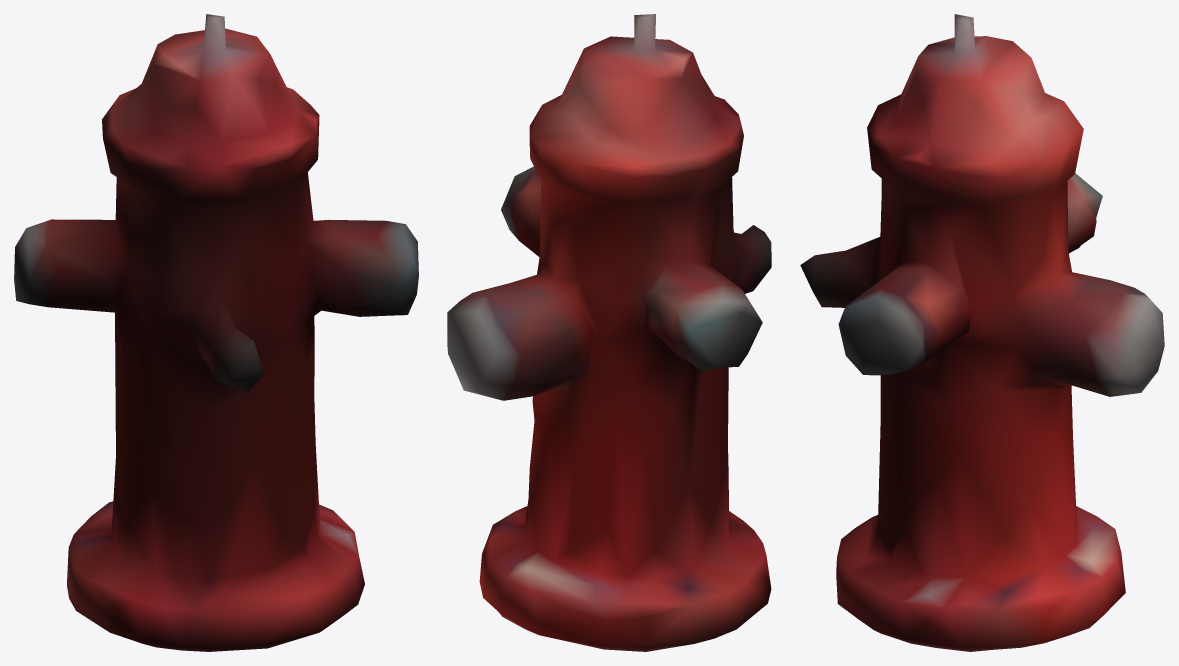
Rendered from gen_hydrant_lowpoly.mobile-mid.glb.
The picture shows the model from 3 angles, left to right: view 1: azimuth 30°, elevation 25°; view 2: azimuth 150°, elevation 25°; view 3: azimuth 270°, elevation 25°; orthographic projection. The views are drawn at different scales.
Visible parts, largest first — view 1: gen_hydrant_lowpoly; view 2: gen_hydrant_lowpoly; view 3: gen_hydrant_lowpoly.
Part boxes in pixels (x1,y1,x2,y2): gen_hydrant_lowpoly: [14, 14, 418, 651]; gen_hydrant_lowpoly: [447, 14, 771, 651]; gen_hydrant_lowpoly: [800, 14, 1164, 651].
Bounding box in the file's own units: 0.4514 × 0.7962 × 0.4559.
